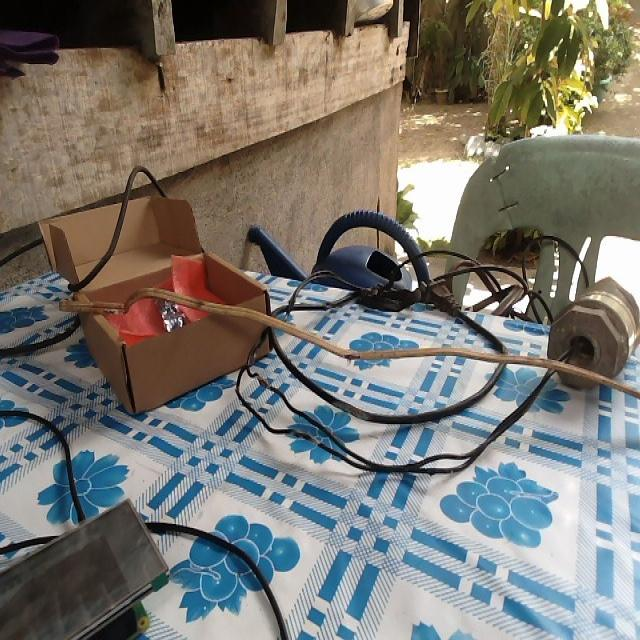-: (333, 397, 368, 420), (301, 430, 320, 446), (344, 351, 358, 357)
